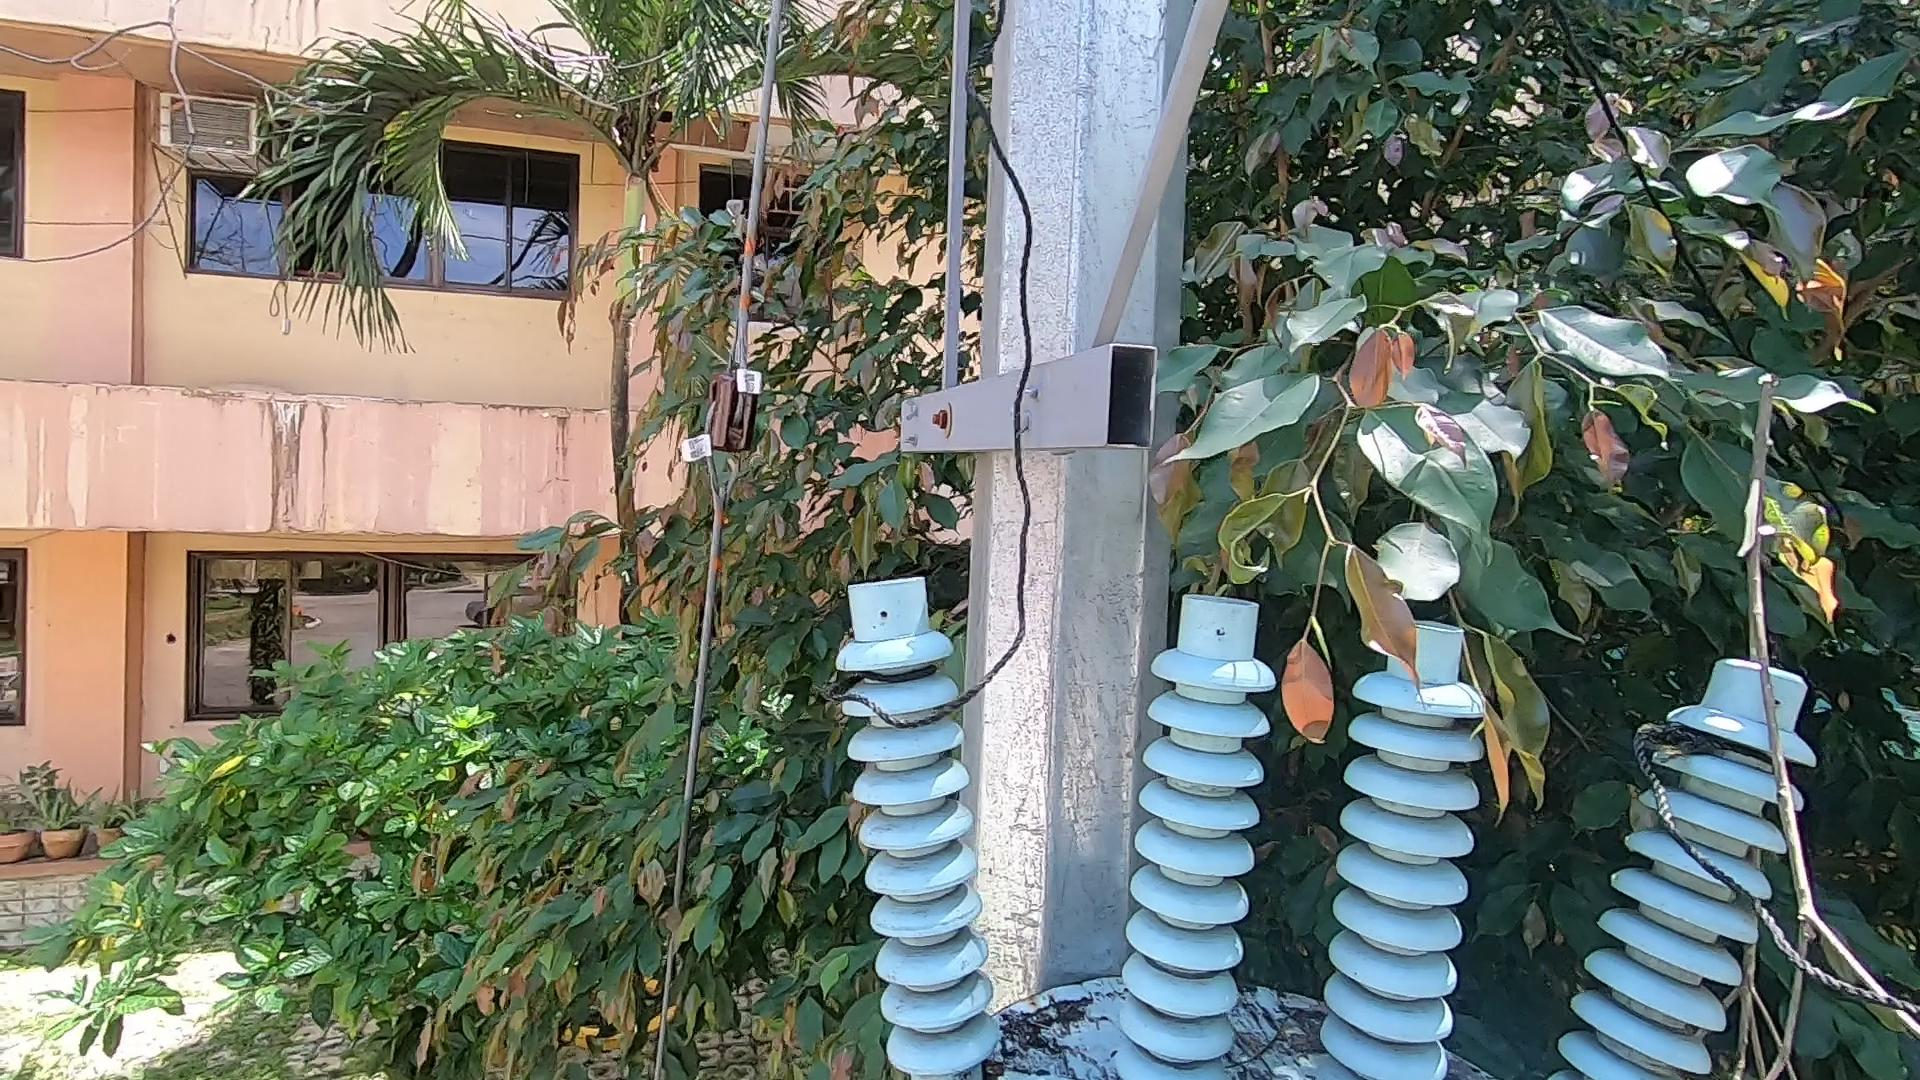tree branch: (1700, 363, 1913, 1080), (1224, 990, 1305, 1069)
